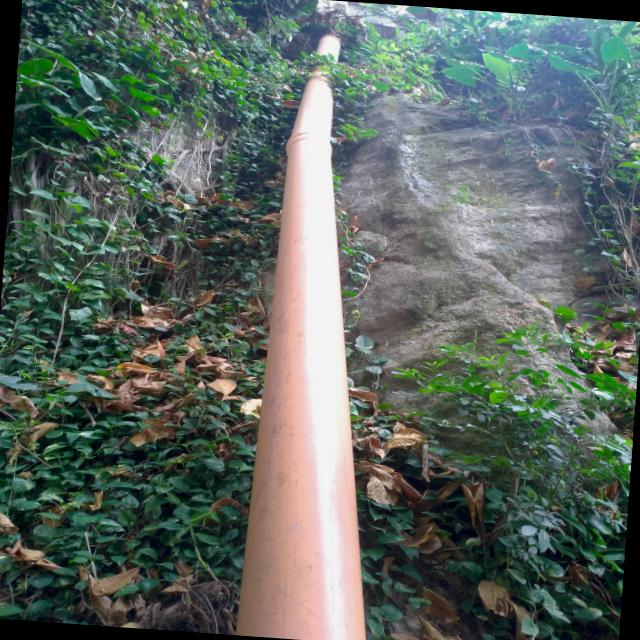gas: (238, 31, 366, 640)
